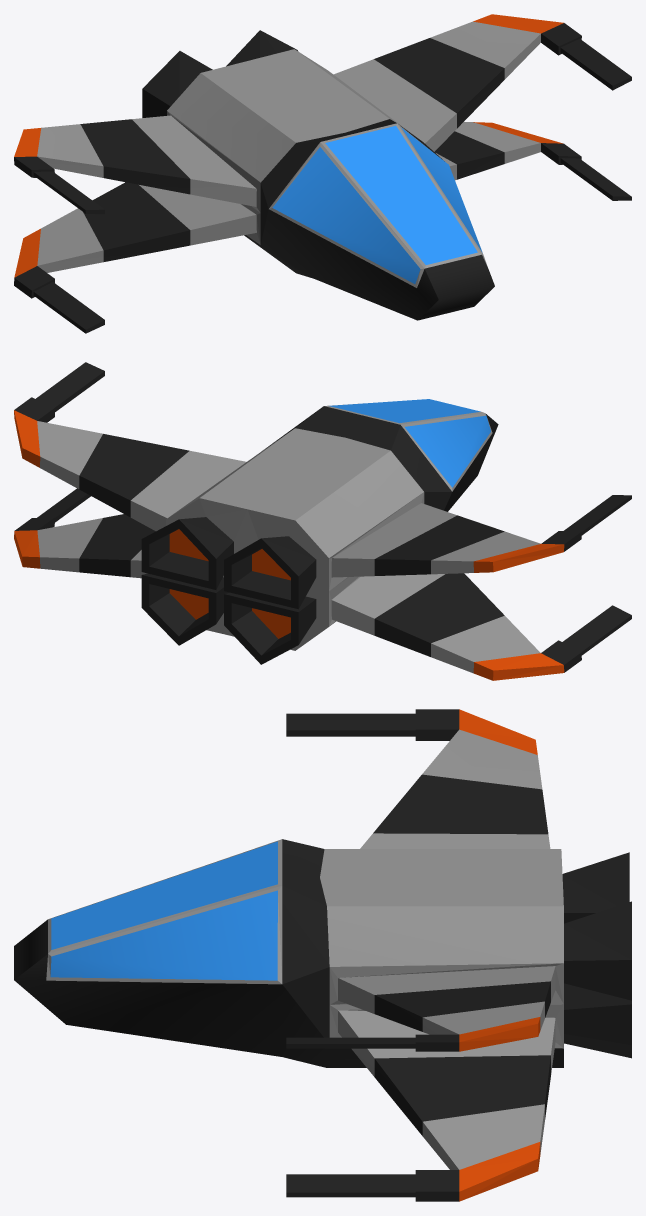
File: mainship.obj
The picture shows the model from 3 angles, top to bottom: view 1: azimuth 30°, elevation 25°; view 2: azimuth 150°, elevation 25°; view 3: azimuth 270°, elevation 25°; orthographic projection. The views are drawn at different scales.
Parts seen in each view (by area): view 1: Box003_Mesh.002; view 2: Box003_Mesh.002; view 3: Box003_Mesh.002.
Boxes of the visible parts, box(x1,y1,x2,y2) form: Box003_Mesh.002: box(14, 14, 631, 333); Box003_Mesh.002: box(14, 362, 631, 680); Box003_Mesh.002: box(14, 709, 631, 1201).
Bounding box in the file's own units: 0.2856 × 0.0704 × 0.224.
